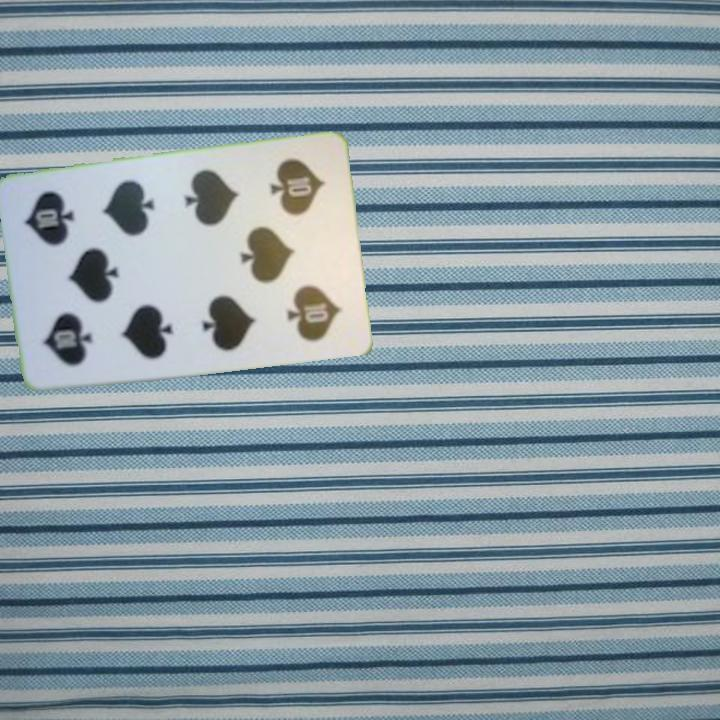s_10.png: (24, 270, 121, 379), (247, 147, 344, 256)
